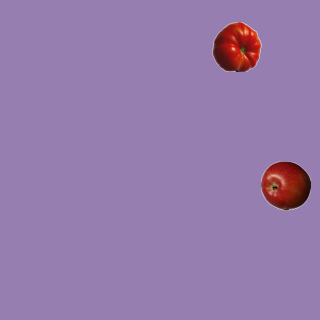Apple Braeburn: (260, 160, 310, 210)
Tomato 3: (211, 21, 261, 71)
